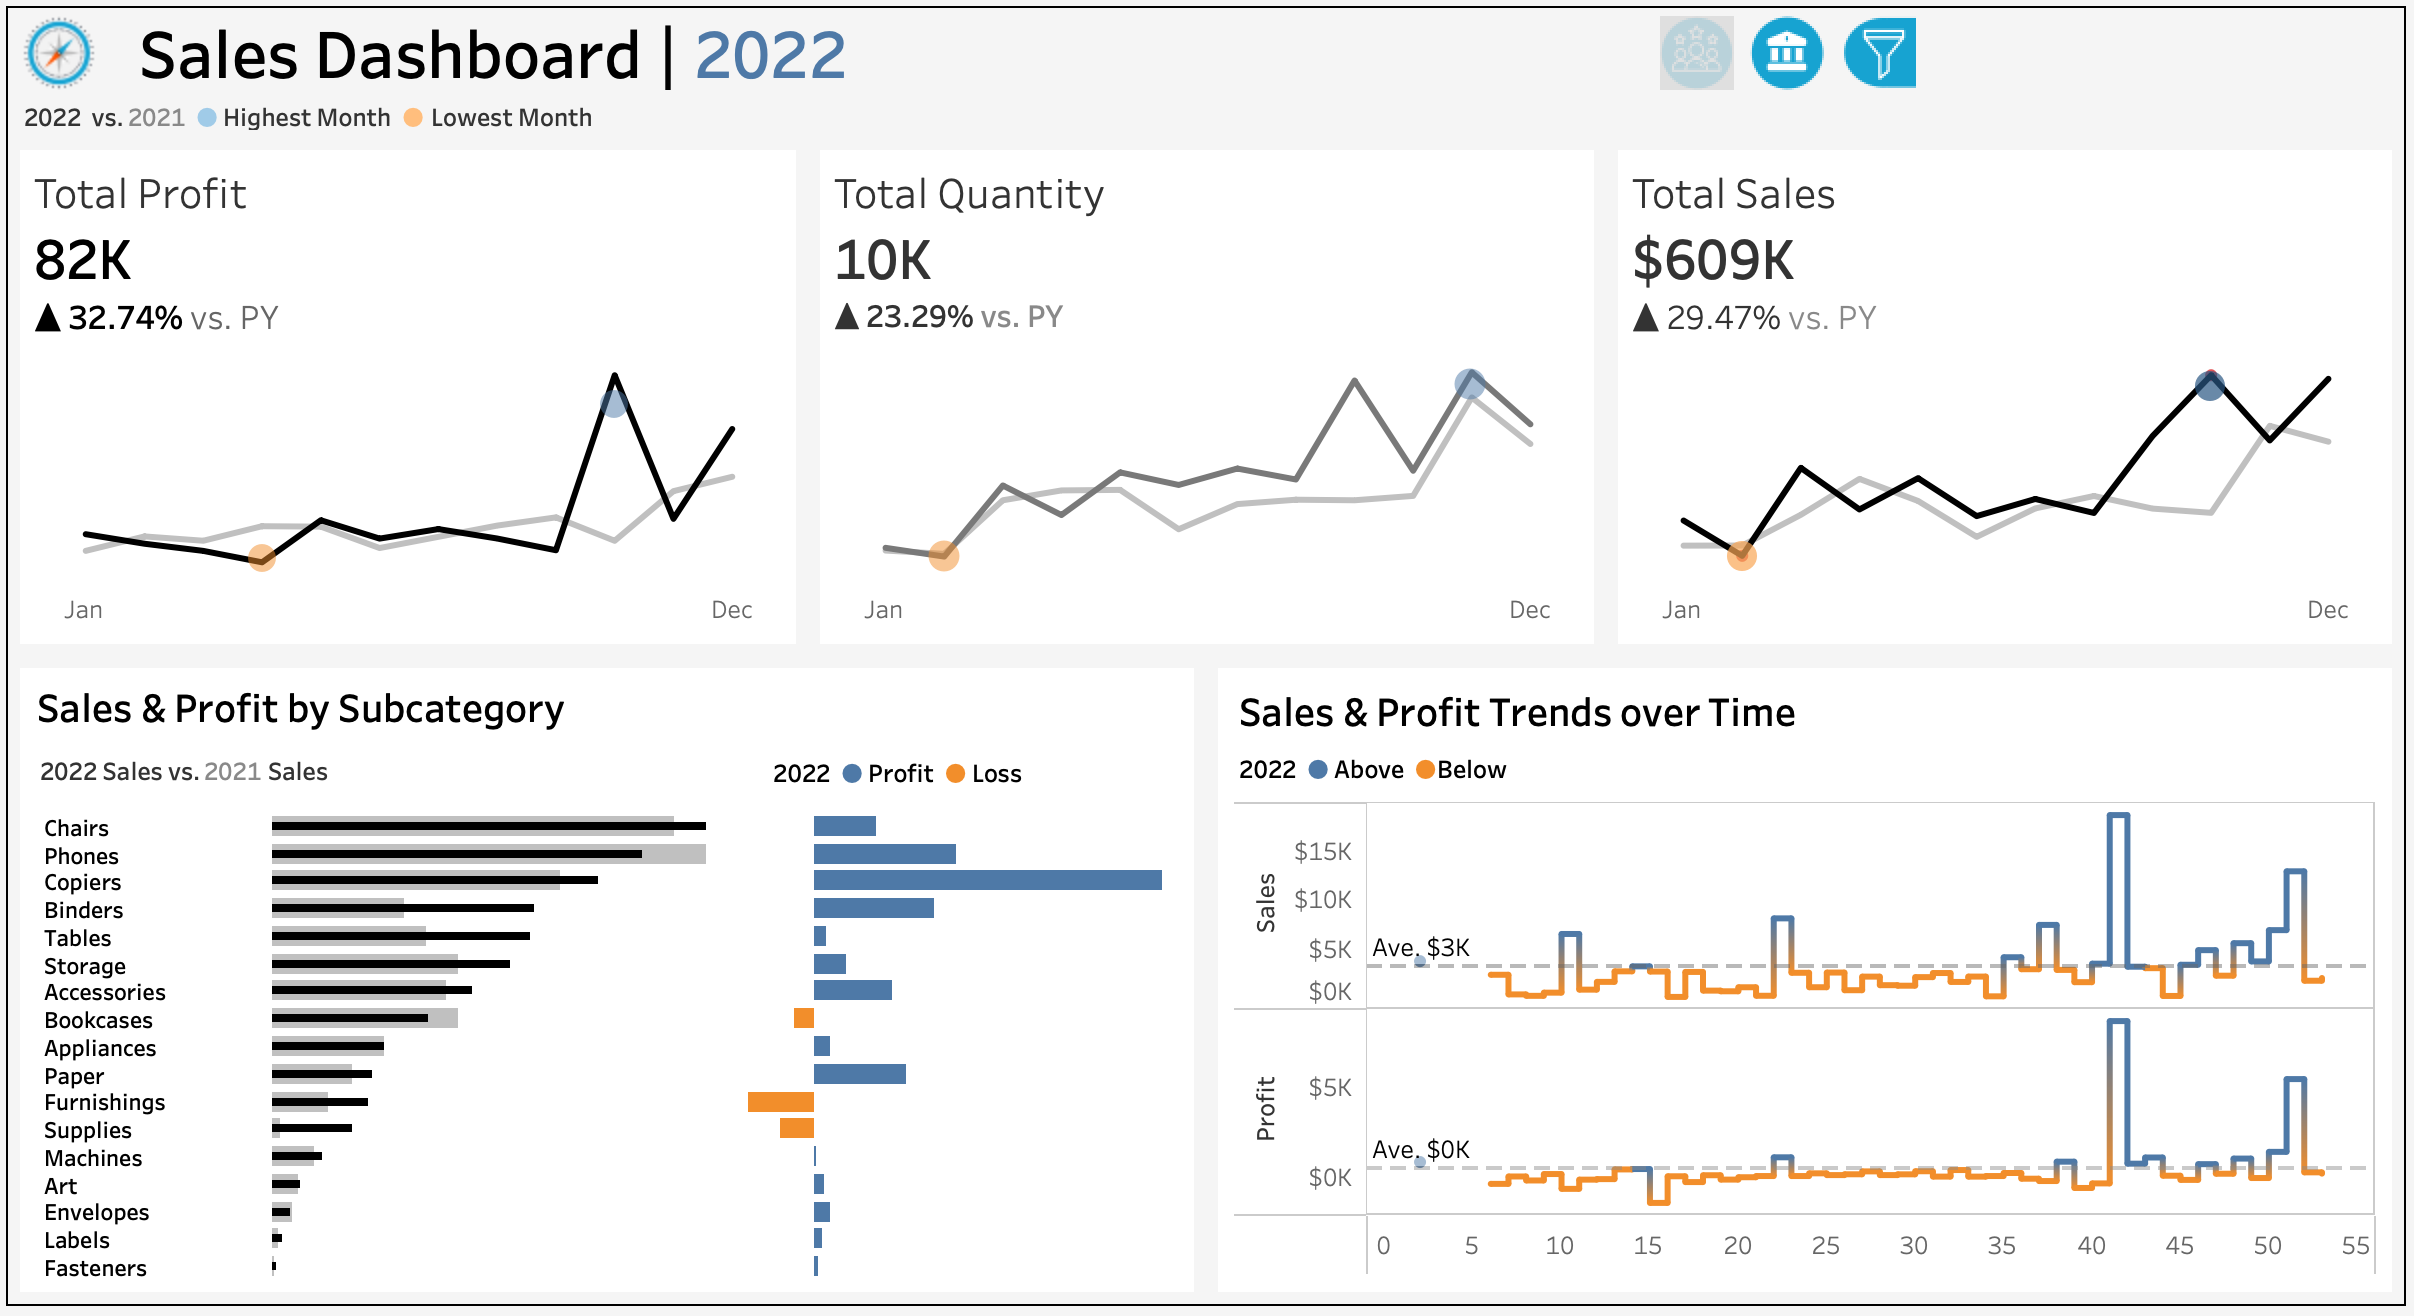

This screenshot's page, from the dashboard's own definition file:
{"tool":"tableau","page":{"name":"Sale's Dashboard","canvas":[1200,650],"ordinal":0},"visuals":[{"type":"image","param":"Image/Icon - Logo.png","box":[1,1,59,45]},{"type":"text","box":[60,1,763,45]},{"type":"dashboard-object","box":[823,1,45,45]},{"type":"dashboard-object","box":[868,1,45,45]},{"type":"dashboard-object","box":[913,1,46,45]},{"type":"text","box":[1023,7,170,34]},{"type":"parameter","param":"[Parameters].[Parameter 1]","box":[1023,41,170,52]},{"type":"worksheet","title":"Legend KPIs","mark":"Automatic","box":[1,46,1198,20]},{"type":"worksheet","title":"KPI Profit","mark":"Automatic","rows":["Calculation_4675980948336672"],"cols":["Order Date"],"box":[1,66,400,259]},{"type":"worksheet","title":"KPI Quantity","mark":"Automatic","rows":["Calculation_4675980941983768"],"cols":["Order Date"],"box":[401,66,399,259]},{"type":"worksheet","title":"KPI Sales","mark":"Automatic","rows":["Calculation_4675978920292355"],"cols":["Order Date"],"box":[800,66,399,259]},{"type":"blank","box":[1023,93,170,32]},{"type":"text","box":[1023,125,170,29]},{"type":"filter","title":"KPI Profit","param":"[federated.0twq9lr12uxu5d11buji81m7laca].[none:Category:nk]","box":[1023,154,170,52]},{"type":"filter","title":"KPI Profit","param":"[federated.0twq9lr12uxu5d11buji81m7laca].[none:Sub-Category:nk]","box":[1023,206,170,52]},{"type":"blank","box":[1023,258,170,32]},{"type":"text","box":[1023,290,170,29]},{"type":"filter","title":"KPI Profit","param":"[federated.0twq9lr12uxu5d11buji81m7laca].[none:Region:nk]","box":[1023,319,170,52]},{"type":"text","box":[9,333,583,34]},{"type":"text","box":[610,335,579,34]},{"type":"worksheet","title":"Legend Subcategory","mark":"Automatic","box":[9,367,368,32]},{"type":"text","box":[377,367,215,32]},{"type":"text","box":[610,369,579,25]},{"type":"filter","title":"KPI Profit","param":"[federated.0twq9lr12uxu5d11buji81m7laca].[none:State:nk]","box":[1023,371,170,52]},{"type":"worksheet","title":"Weekly Trends","mark":"Automatic","rows":["Calculation_4675978911817728","Calculation_4675980947947549"],"cols":["Order Date"],"box":[610,394,579,245]},{"type":"worksheet","title":"Subcategory Comparision","mark":"Bar","rows":["Sub-Category","Calculation_4675981292060707"],"cols":["CY Sales (copy)_4675978912632833","Calculation_4675978911817728","Calculation_4675980947947549"],"box":[9,399,583,242]},{"type":"filter","title":"KPI Profit","param":"[federated.0twq9lr12uxu5d11buji81m7laca].[none:City:nk]","box":[1023,423,170,52]}]}

Visuals, with their boxes in screenshot pixels (x1, y1, x2, y2), scaled from the page's 1200x650 canvas onto the 2414x1316 screenshot:
image: x1=2 y1=2 x2=121 y2=93
text: x1=121 y1=2 x2=1656 y2=93
dashboard-object: x1=1656 y1=2 x2=1746 y2=93
dashboard-object: x1=1746 y1=2 x2=1837 y2=93
dashboard-object: x1=1837 y1=2 x2=1929 y2=93
text: x1=2058 y1=14 x2=2400 y2=83
parameter: x1=2058 y1=83 x2=2400 y2=188
"Legend KPIs" worksheet: x1=2 y1=93 x2=2412 y2=134
"KPI Profit" worksheet: x1=2 y1=134 x2=807 y2=658
"KPI Quantity" worksheet: x1=807 y1=134 x2=1609 y2=658
"KPI Sales" worksheet: x1=1609 y1=134 x2=2412 y2=658
blank: x1=2058 y1=188 x2=2400 y2=253
text: x1=2058 y1=253 x2=2400 y2=312
"KPI Profit" filter: x1=2058 y1=312 x2=2400 y2=417
"KPI Profit" filter: x1=2058 y1=417 x2=2400 y2=522
blank: x1=2058 y1=522 x2=2400 y2=587
text: x1=2058 y1=587 x2=2400 y2=646
"KPI Profit" filter: x1=2058 y1=646 x2=2400 y2=751
text: x1=18 y1=674 x2=1191 y2=743
text: x1=1227 y1=678 x2=2392 y2=747
"Legend Subcategory" worksheet: x1=18 y1=743 x2=758 y2=808
text: x1=758 y1=743 x2=1191 y2=808
text: x1=1227 y1=747 x2=2392 y2=798
"KPI Profit" filter: x1=2058 y1=751 x2=2400 y2=856
"Weekly Trends" worksheet: x1=1227 y1=798 x2=2392 y2=1294
"Subcategory Comparision" worksheet (Bar marks): x1=18 y1=808 x2=1191 y2=1298
"KPI Profit" filter: x1=2058 y1=856 x2=2400 y2=962
